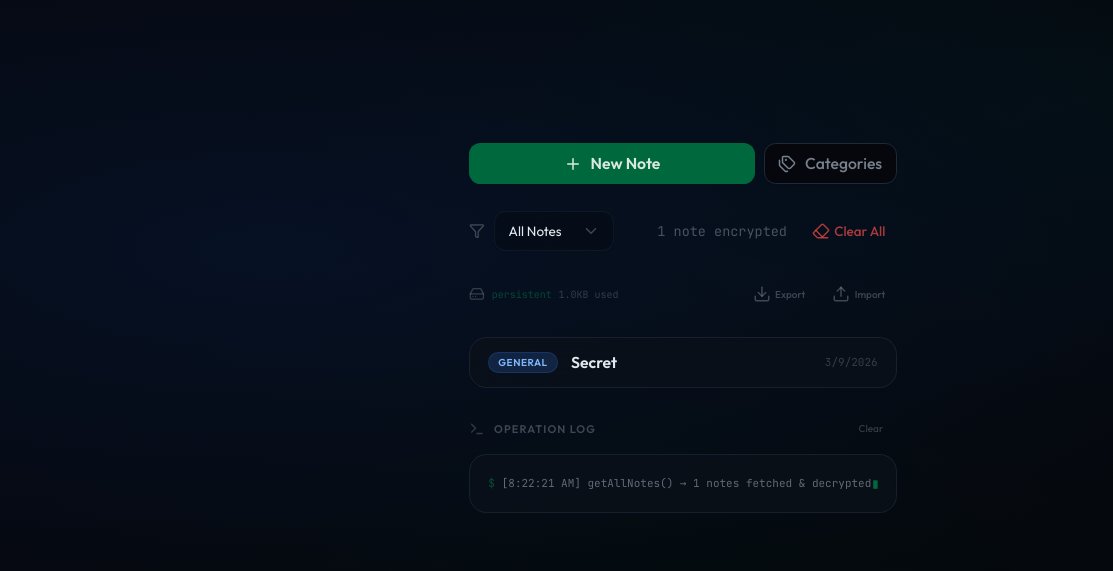
Test: NotesApp › shows raw encrypted content when eye icon clicked
The image size is (1113, 571).
Click note to open detail view, then show raw
What coordinates should you click on to do the following:
click the heading "Secret"
I would click on:
 (594, 362)
Its box is x1=571 y1=352 x2=617 y2=372.
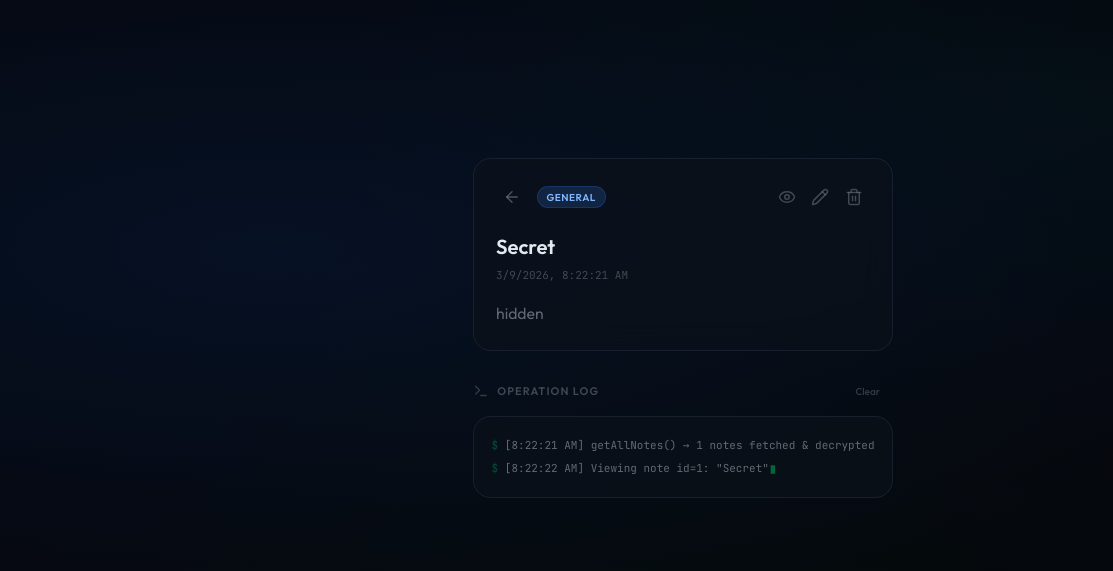
Expected: the button titled "Show encrypted" is shown
What coordinates should you click on to do the following:
click the button titled "Show encrypted"
I would click on:
 (787, 197)
Its box is x1=771 y1=181 x2=802 y2=213.
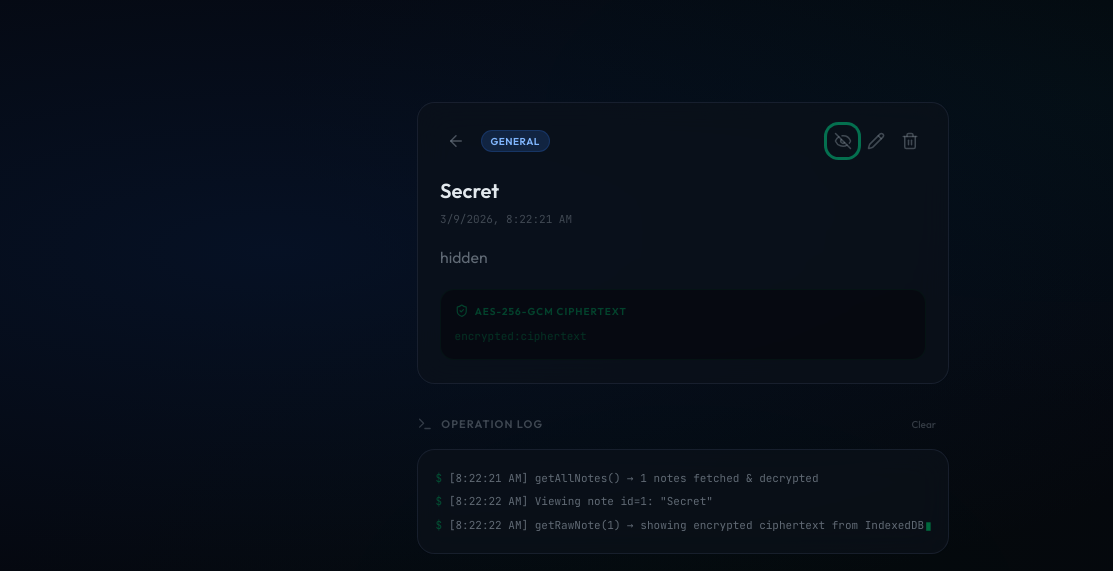
Expected: the text "encrypted:ciphertext" is shown, x1=454 y1=329 x2=586 y2=343
Expected: the text "AES-256-GCM Ciphertext" is shown, x1=475 y1=304 x2=627 y2=319
